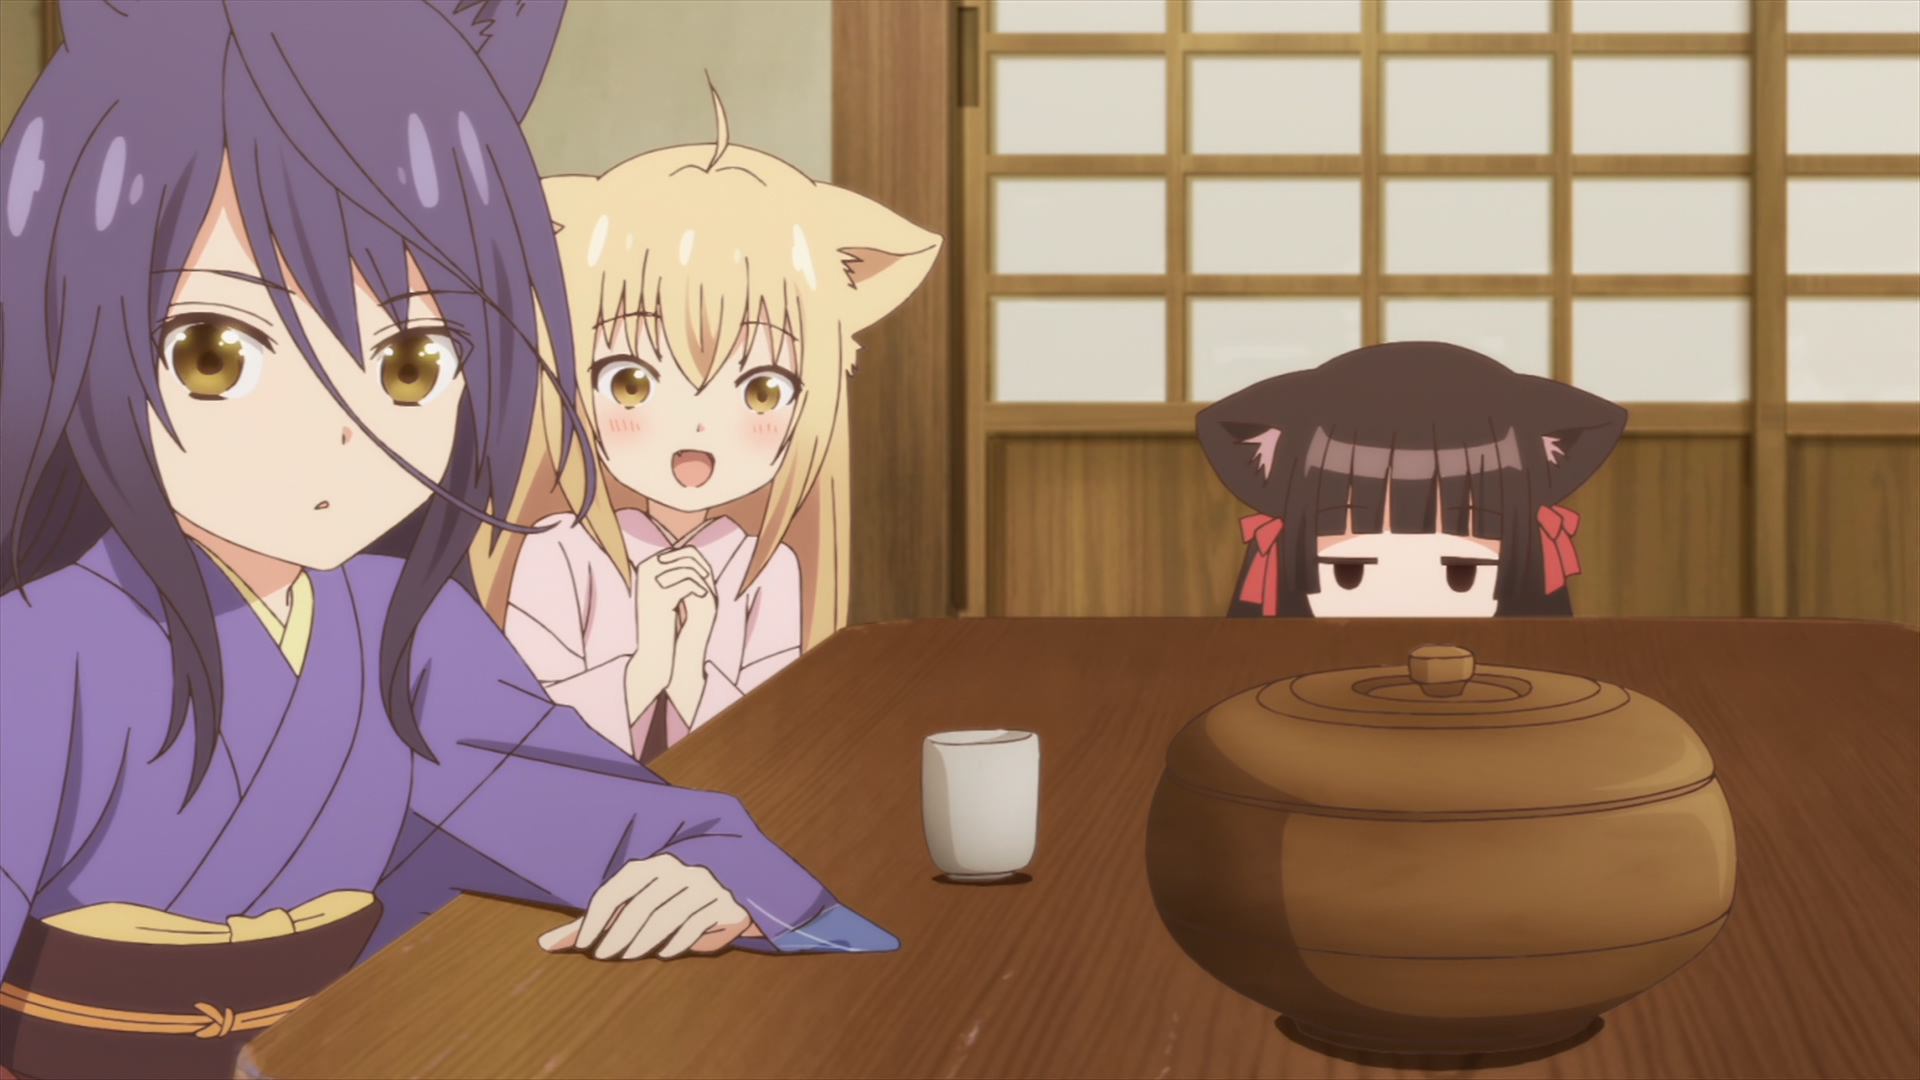柚: (472, 73, 944, 764)
樱: (1193, 339, 1629, 615)
皋: (1, 1, 901, 1080)
